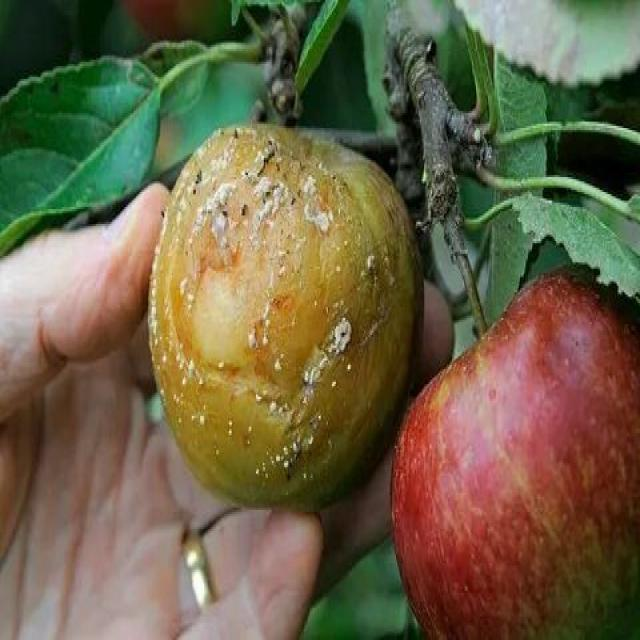Fresh Apple: (392, 272, 636, 554)
Rotten: (156, 126, 406, 506)
